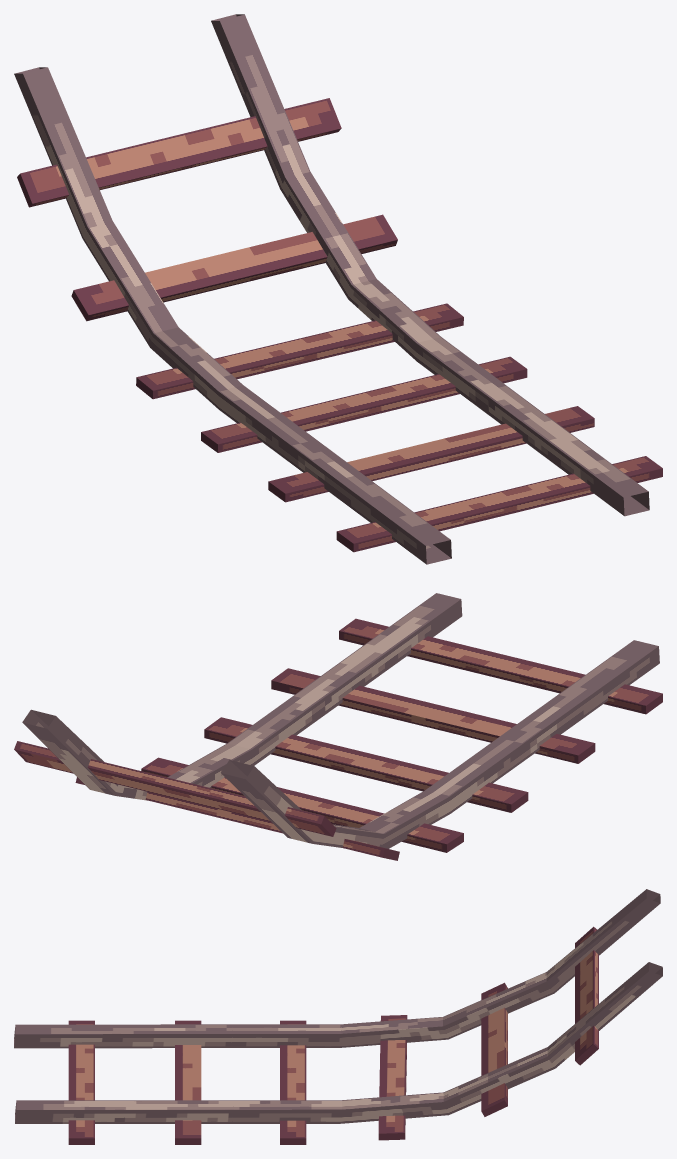
The model's file is RailUp.fbx.
3 views of the same model, one above another, from view 1: azimuth 30°, elevation 25°; view 2: azimuth 150°, elevation 25°; view 3: azimuth 270°, elevation 25° (orthographic). The views are drawn at different scales.
Parts seen in each view (by area): view 1: RailUp; view 2: RailUp; view 3: RailUp.
Boxes of the visible parts, bbox=[...] form: RailUp: bbox=[14, 14, 662, 564]; RailUp: bbox=[14, 593, 662, 860]; RailUp: bbox=[14, 889, 662, 1144].
Size of the model in its own units: 102 by 62.58 by 235.
